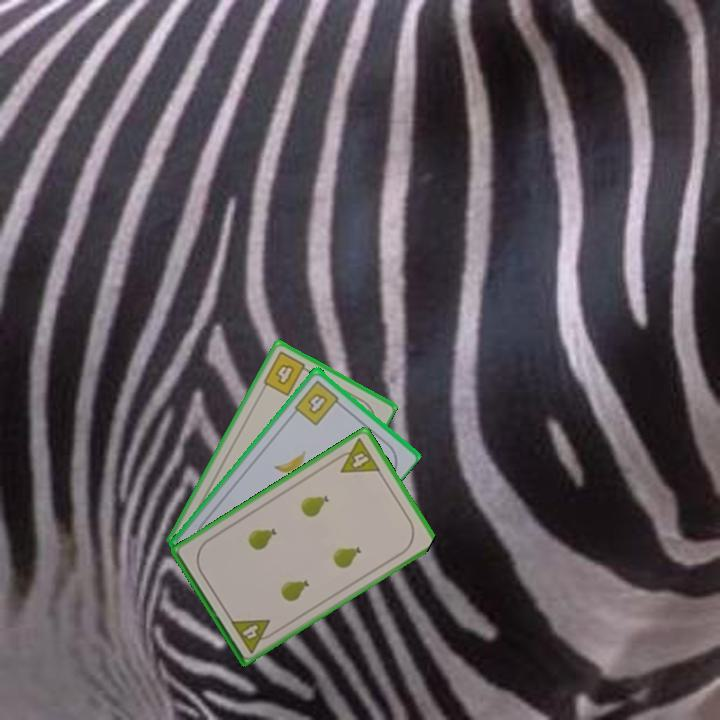4b: (291, 376, 346, 428), (259, 348, 314, 399)
4p: (330, 435, 383, 476), (227, 615, 279, 656)
